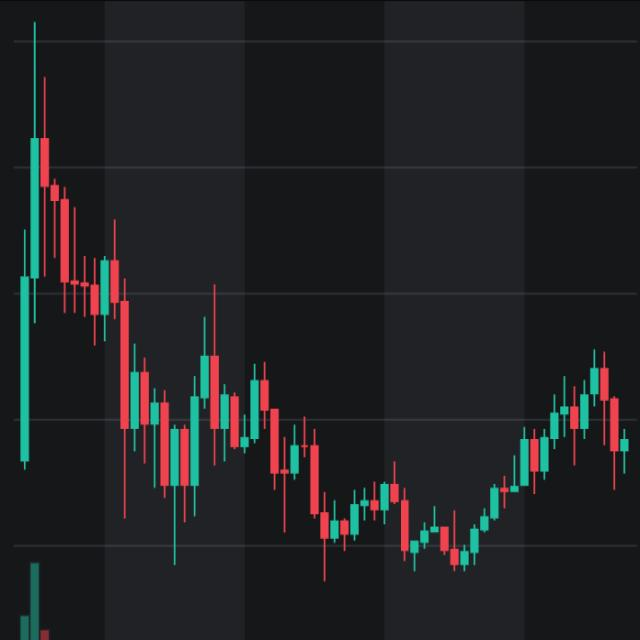Channel-down: (0, 94, 501, 636)
